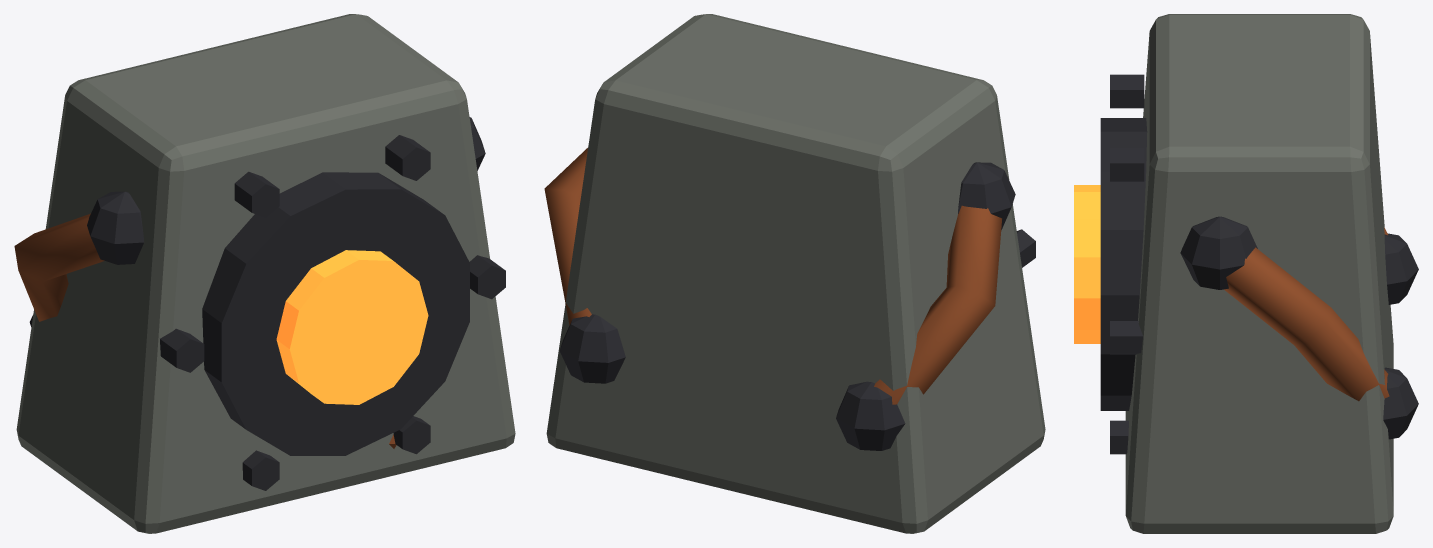
The model's file is co_crucible.glb.
The picture shows the model from 3 angles, left to right: view 1: azimuth 30°, elevation 25°; view 2: azimuth 150°, elevation 25°; view 3: azimuth 270°, elevation 25°; orthographic projection.
Visible parts, largest first — view 1: co_crucible; view 2: co_crucible; view 3: co_crucible.
Boxes of the visible parts, x1,y1,x2,y2 form: co_crucible: (14, 14, 515, 533); co_crucible: (544, 14, 1045, 533); co_crucible: (1074, 14, 1418, 533).
Size of the model in its own units: 0.167 by 0.1339 by 0.1118.
